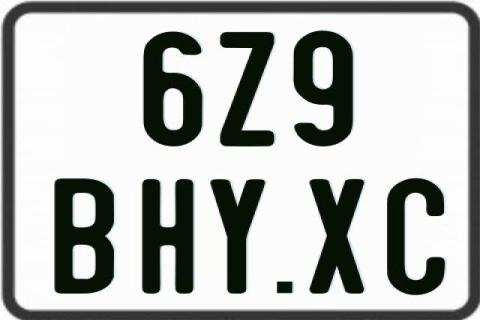0: (290, 28, 354, 148), (141, 29, 205, 145)
B: (54, 176, 113, 293)
C: (385, 177, 443, 295)
H: (141, 177, 197, 295)
X: (309, 177, 369, 296)
Y: (211, 177, 269, 296)
Z: (217, 32, 276, 151)
